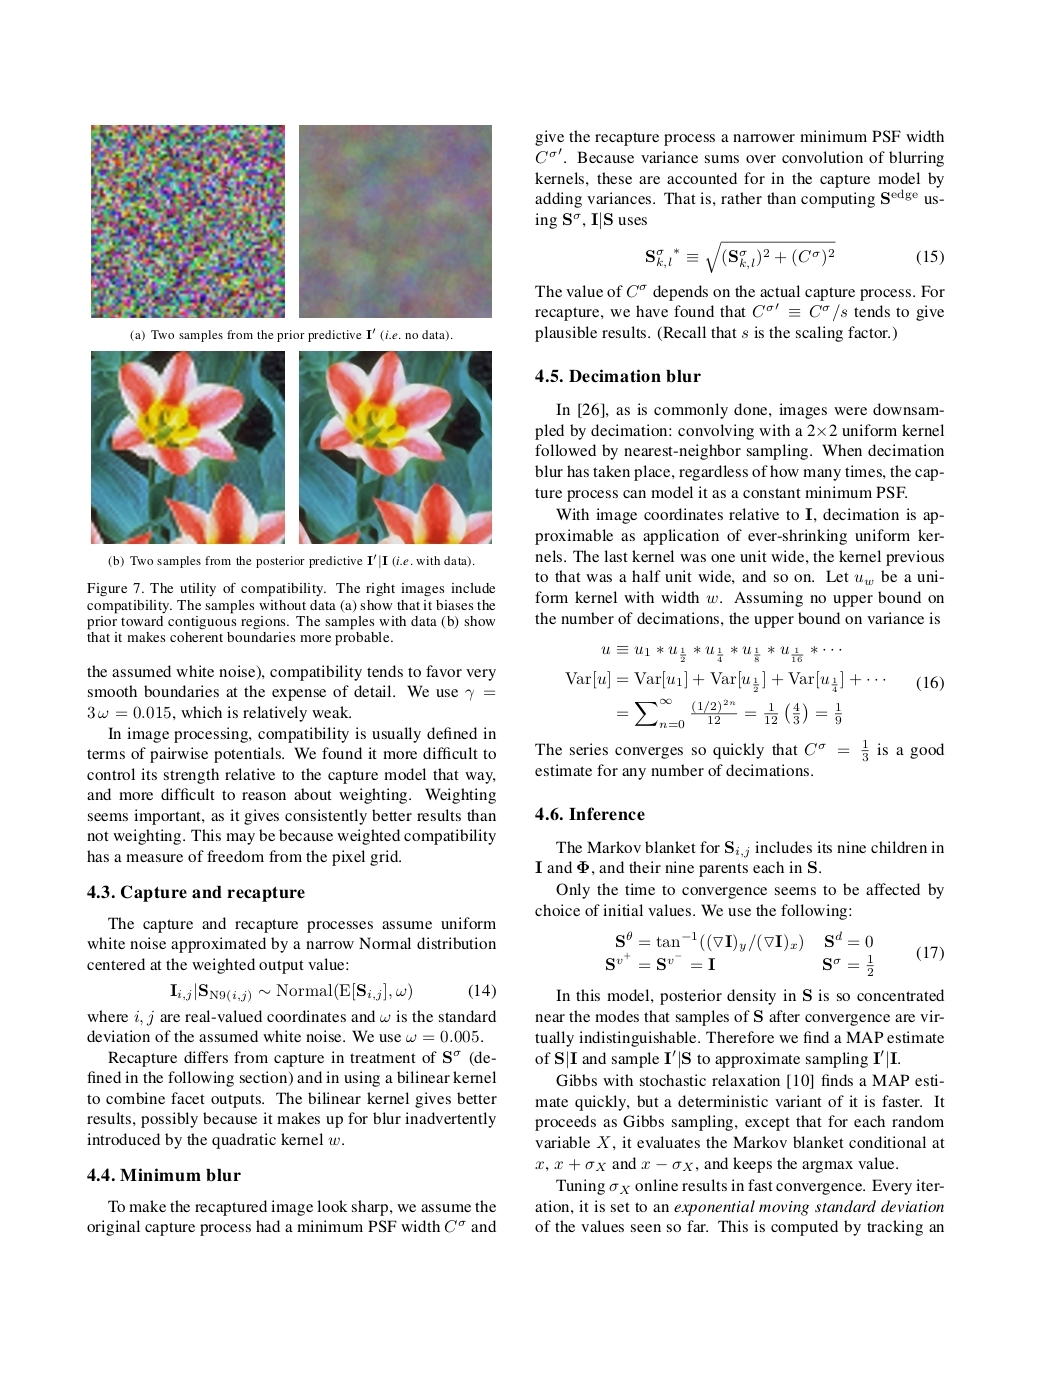figure: (90, 125, 285, 317), (299, 125, 491, 317), (91, 351, 284, 543), (299, 351, 491, 543)
formula: (606, 929, 943, 976), (646, 240, 943, 273), (565, 670, 943, 692), (617, 697, 841, 729), (171, 982, 495, 1002), (601, 645, 841, 663)
